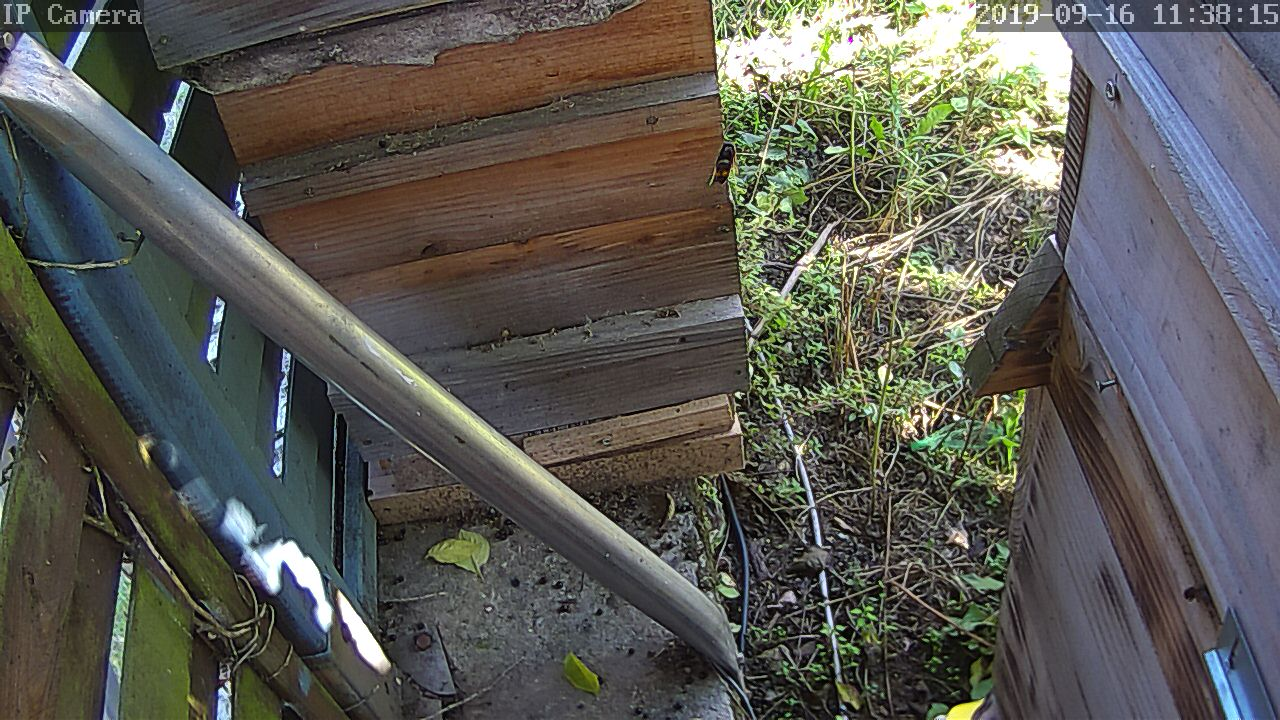hornet: (708, 129, 746, 190)
